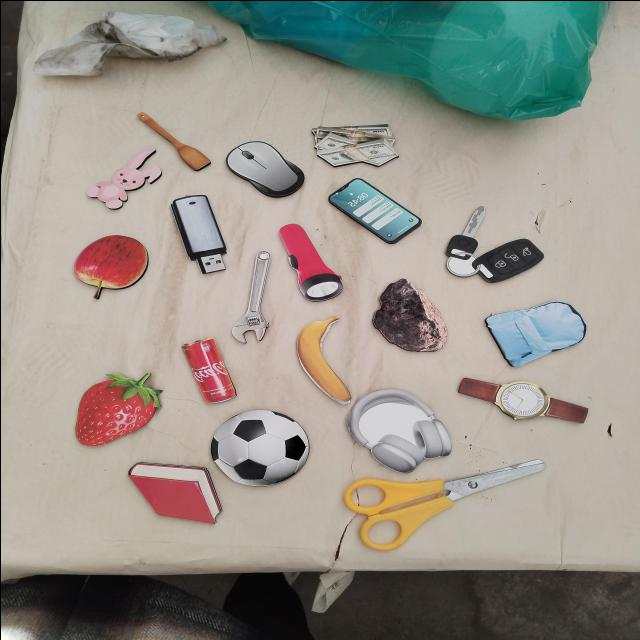Other Objects: (343, 458, 546, 550), (190, 395, 329, 499), (420, 203, 548, 300), (345, 387, 452, 472), (481, 290, 595, 368), (216, 132, 313, 205), (327, 176, 421, 243), (275, 217, 347, 304), (227, 249, 291, 346), (455, 377, 590, 422), (371, 277, 448, 351), (167, 191, 233, 275), (135, 104, 212, 172), (296, 314, 351, 404), (72, 233, 148, 298), (85, 146, 162, 209), (310, 122, 399, 167), (180, 336, 237, 403)
